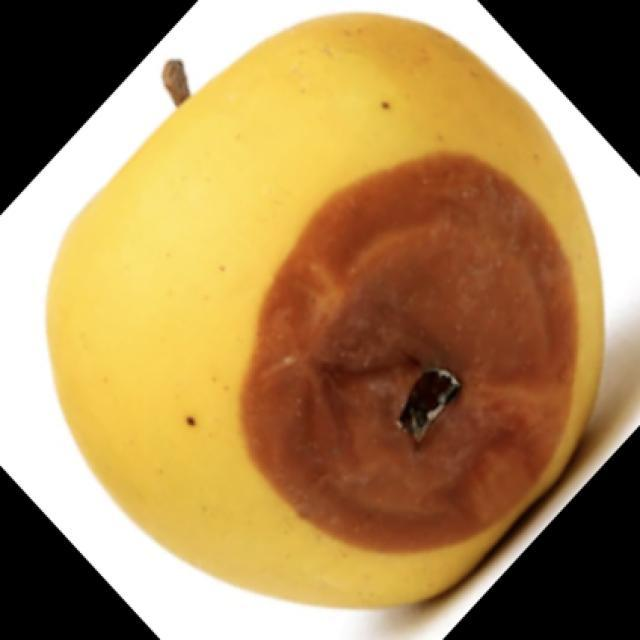Rotten: (63, 25, 605, 603)
